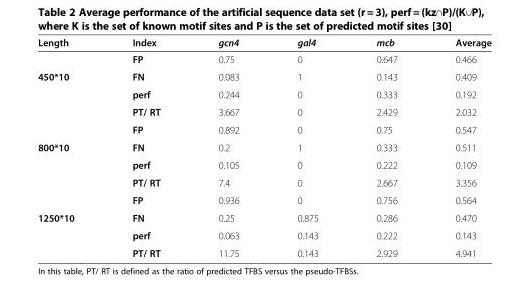table: (37, 36, 490, 258)
table column: (102, 36, 188, 258), (188, 36, 267, 258), (267, 36, 346, 258), (346, 36, 425, 258), (37, 36, 102, 258), (425, 36, 490, 258)
table column header: (37, 36, 490, 50)
table row: (37, 67, 490, 85), (37, 102, 490, 120), (37, 120, 490, 138), (37, 155, 490, 173), (37, 173, 490, 191), (37, 208, 490, 226), (37, 50, 490, 67), (37, 85, 490, 102), (37, 138, 490, 155), (37, 191, 490, 208), (37, 226, 490, 243), (37, 243, 490, 258), (37, 36, 490, 50)
table spanning cell: (37, 67, 102, 138), (37, 138, 102, 208), (37, 208, 102, 258)
